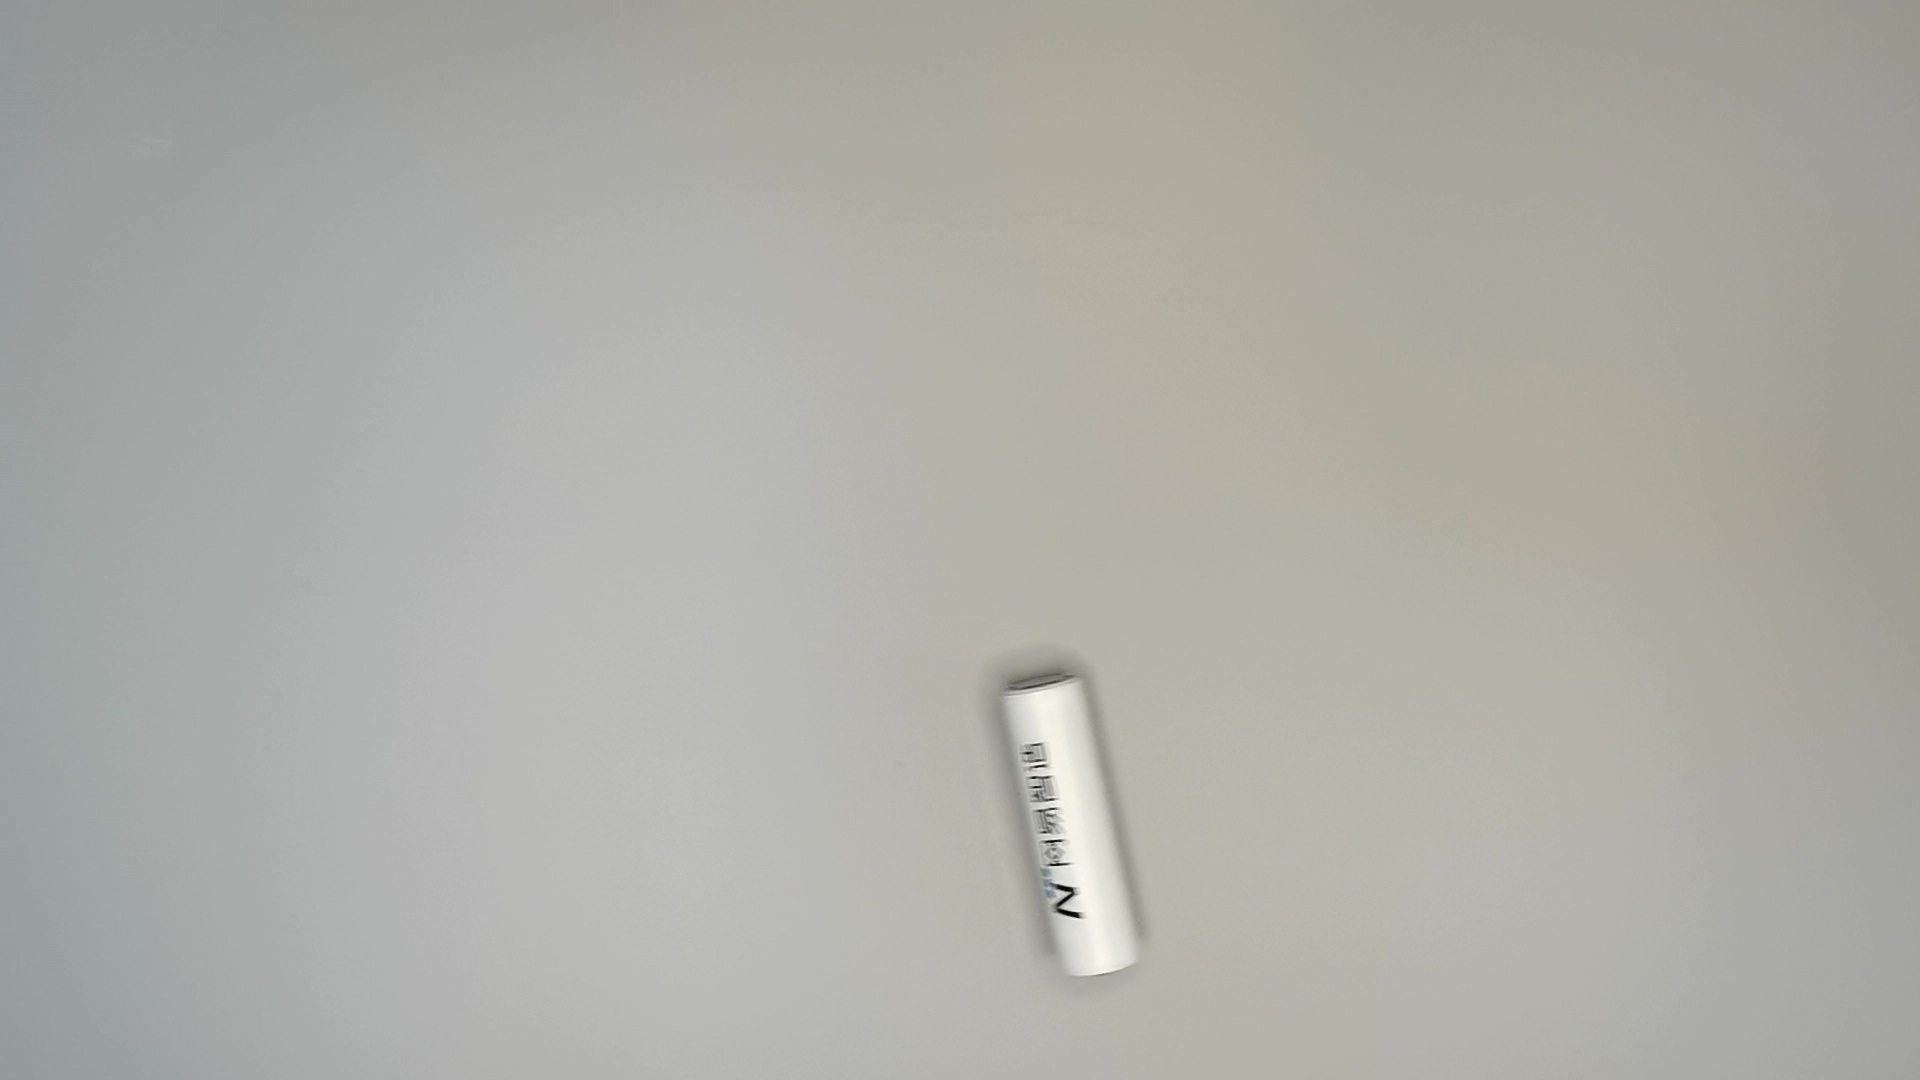battery: (992, 659, 1154, 989)
